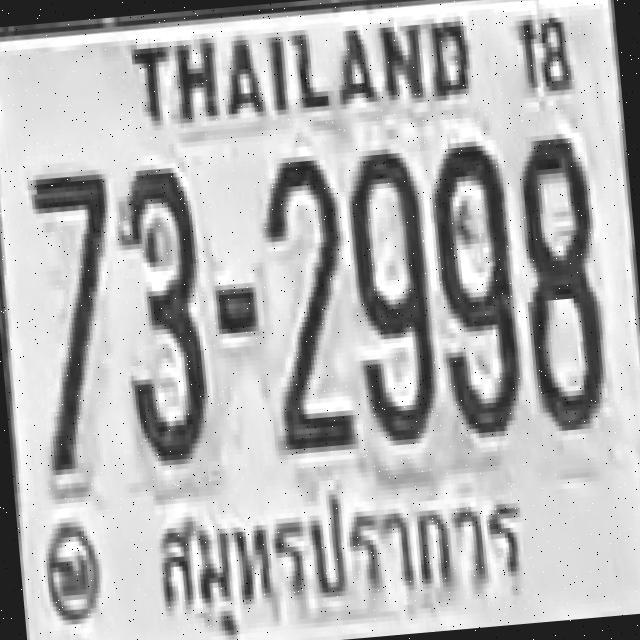2: (254, 152, 354, 452)
3: (109, 161, 212, 463)
7: (23, 163, 130, 474), (28, 167, 120, 386)
8: (512, 129, 608, 430)
9: (424, 134, 524, 435), (341, 142, 438, 442)
SamutPrakan: (138, 464, 532, 640)
